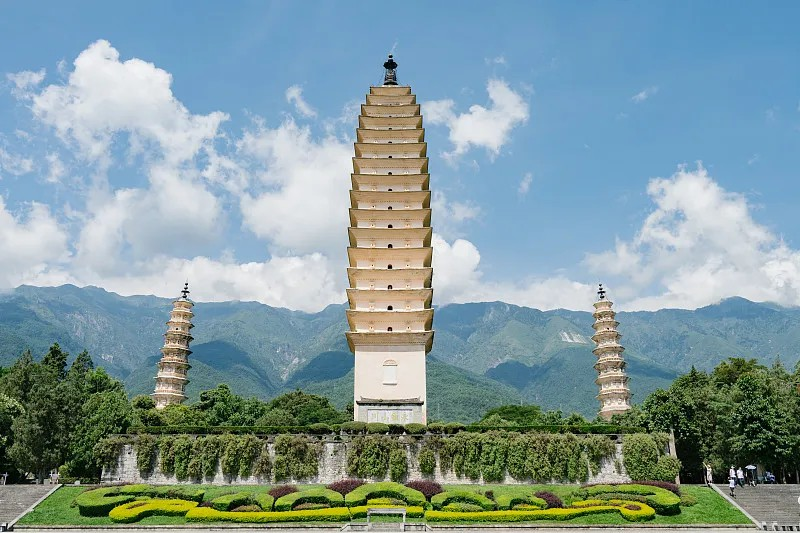ThreePagoda: (346, 52, 434, 423)
